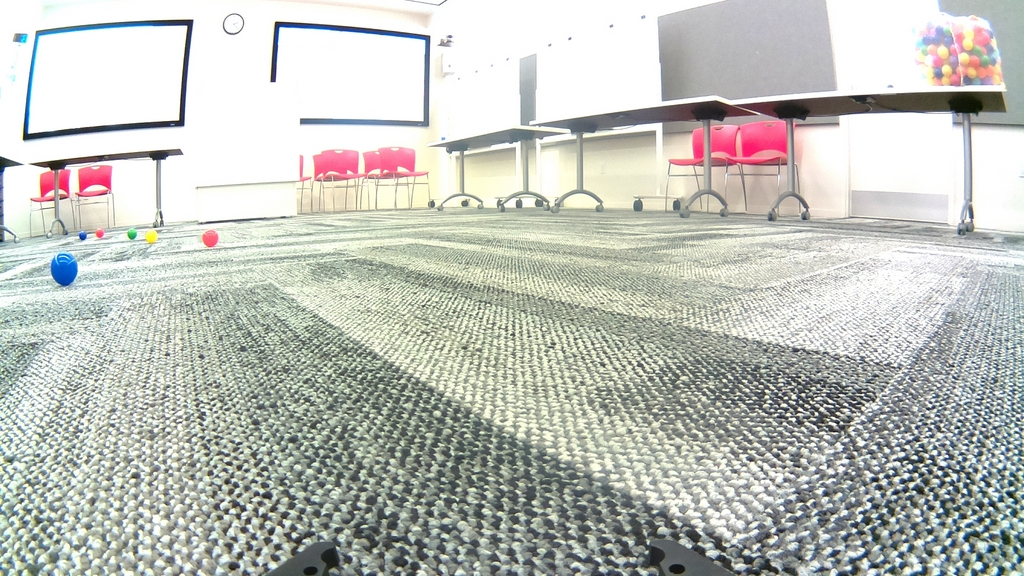ball: (98, 228, 104, 239)
